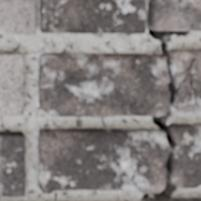brick: (41, 0, 144, 32), (0, 131, 23, 196), (149, 0, 200, 29), (0, 52, 22, 114), (0, 0, 34, 33), (141, 198, 200, 200)
broken_brick: (36, 127, 168, 193), (37, 52, 168, 116), (168, 122, 200, 188), (169, 48, 200, 107), (175, 76, 198, 112)
crack: (141, 2, 200, 198)
